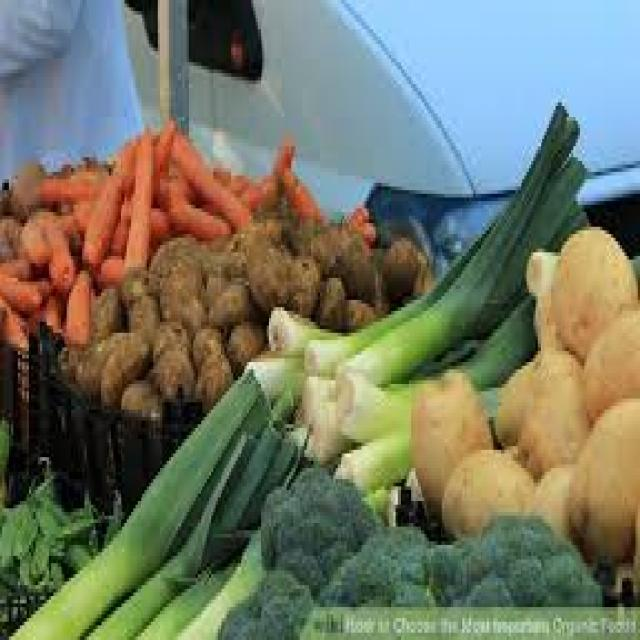organic waste: (242, 150, 584, 399), (302, 99, 576, 369), (5, 366, 266, 636), (76, 380, 291, 636), (336, 293, 538, 432), (258, 461, 380, 592), (427, 512, 602, 603), (409, 362, 489, 519), (549, 220, 638, 358), (566, 395, 638, 563), (313, 516, 429, 600), (218, 417, 306, 527), (440, 446, 536, 541), (169, 128, 249, 223), (513, 373, 589, 468), (580, 300, 638, 424), (216, 564, 311, 636), (77, 136, 126, 264), (333, 428, 411, 490), (496, 348, 544, 442), (531, 457, 585, 538), (264, 304, 342, 358), (125, 124, 154, 267), (324, 234, 386, 300), (296, 373, 338, 464), (33, 504, 87, 570), (96, 329, 146, 399), (378, 230, 431, 296), (71, 329, 129, 388), (158, 190, 229, 238), (191, 318, 231, 402), (244, 223, 286, 300), (149, 226, 198, 282), (160, 256, 204, 315), (18, 204, 56, 270), (205, 270, 251, 322), (124, 267, 160, 329), (149, 351, 195, 399), (60, 267, 89, 340), (286, 249, 318, 311), (278, 164, 316, 216), (34, 172, 102, 201), (154, 117, 174, 208), (7, 161, 40, 216), (311, 216, 347, 263), (278, 201, 316, 245), (47, 216, 71, 285), (229, 311, 264, 358), (0, 501, 22, 574), (109, 183, 131, 256), (0, 267, 40, 307), (91, 282, 125, 329), (316, 270, 344, 322), (531, 289, 556, 347), (200, 238, 244, 270), (153, 315, 191, 351), (9, 505, 35, 556), (120, 376, 160, 409), (0, 296, 27, 344), (524, 245, 556, 285), (24, 479, 62, 512), (53, 512, 109, 534), (242, 176, 278, 208), (342, 292, 373, 326), (80, 490, 96, 552), (96, 252, 122, 286), (29, 530, 47, 578), (0, 208, 18, 256), (213, 165, 247, 190), (349, 201, 371, 238), (38, 286, 58, 326), (162, 172, 194, 194), (0, 252, 31, 274), (362, 483, 389, 508), (69, 198, 89, 230), (271, 139, 293, 168), (0, 413, 7, 483), (0, 179, 9, 212)
